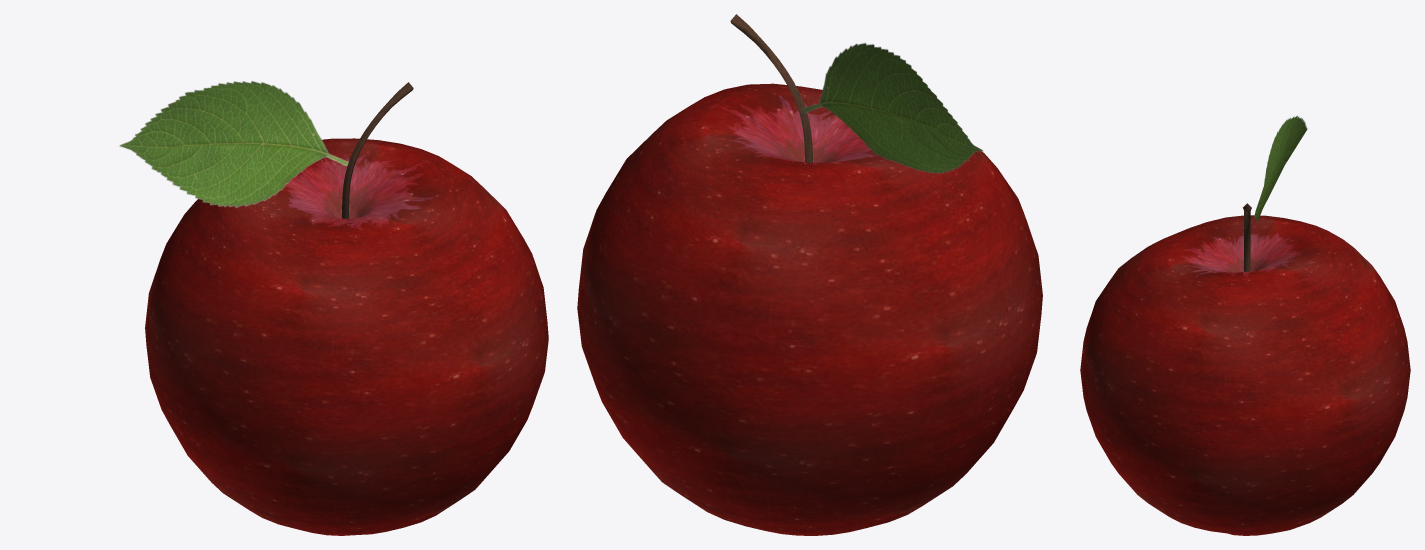
3 views of the same model, side by side, from view 1: azimuth 30°, elevation 25°; view 2: azimuth 150°, elevation 25°; view 3: azimuth 270°, elevation 25° (orthographic). The views are drawn at different scales.
Visible parts, largest first — view 1: AppleA_singlematerial; view 2: AppleA_singlematerial; view 3: AppleA_singlematerial.
Boxes of the visible parts, bbox=[...] form: AppleA_singlematerial: bbox=[119, 81, 548, 535]; AppleA_singlematerial: bbox=[577, 14, 1042, 535]; AppleA_singlematerial: bbox=[1080, 115, 1410, 535].
Size of the model in its own units: 12.74 by 13.91 by 10.
Materials: 1 (1 with a texture image).
